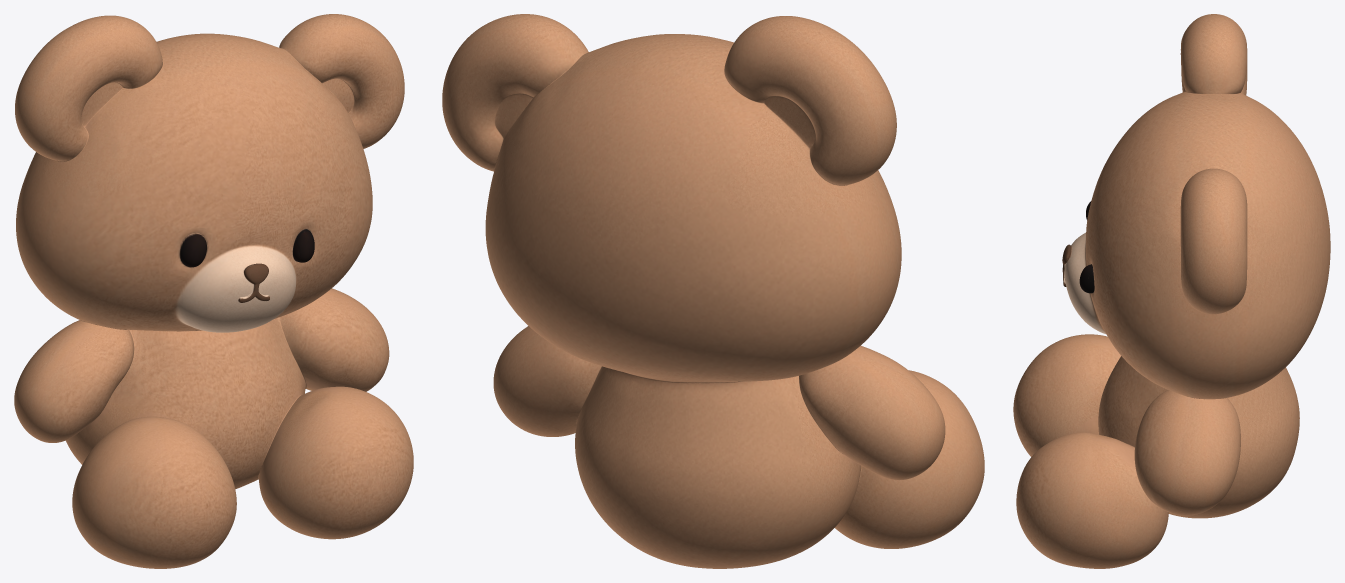
Rendered from plushie.glb.
The picture shows the model from 3 angles, left to right: view 1: azimuth 30°, elevation 25°; view 2: azimuth 150°, elevation 25°; view 3: azimuth 270°, elevation 25°; orthographic projection. The views are drawn at different scales.
Size of the model in its own units: 1.61 by 1.9 by 1.19.
1 material, 1 textured.
